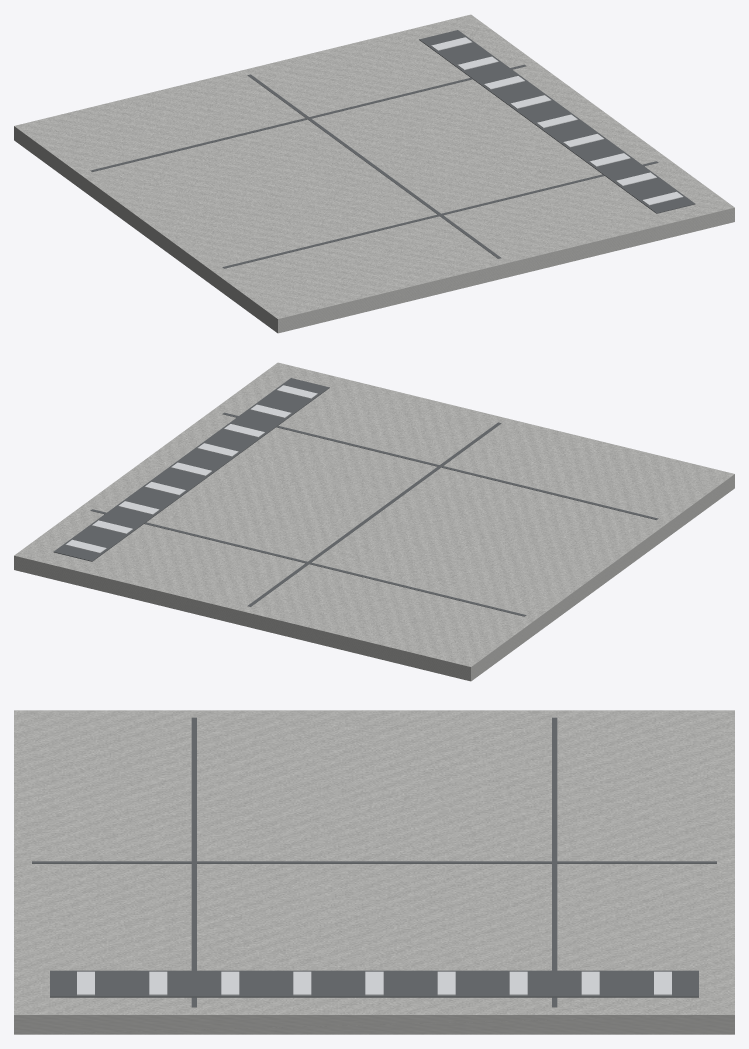
File: fish-market-and-trawler-quay-fish-market-and-trawler-q-28f3e5ed__37267.glb
3 views of the same model, one above another, from view 1: azimuth 30°, elevation 25°; view 2: azimuth 150°, elevation 25°; view 3: azimuth 270°, elevation 25° (orthographic). The views are drawn at different scales.
Parts seen in each view (by area): view 1: fish-market-and-trawler-quay-quay-deck-module; view 2: fish-market-and-trawler-quay-quay-deck-module; view 3: fish-market-and-trawler-quay-quay-deck-module.
Part boxes in pixels (<box>): fish-market-and-trawler-quay-quay-deck-module: <box>14,14,734,333</box>; fish-market-and-trawler-quay-quay-deck-module: <box>14,362,734,681</box>; fish-market-and-trawler-quay-quay-deck-module: <box>14,710,734,1034</box>.
Bounding box in the file's own units: 4 × 0.13 × 4.
3 materials, 1 textured.
